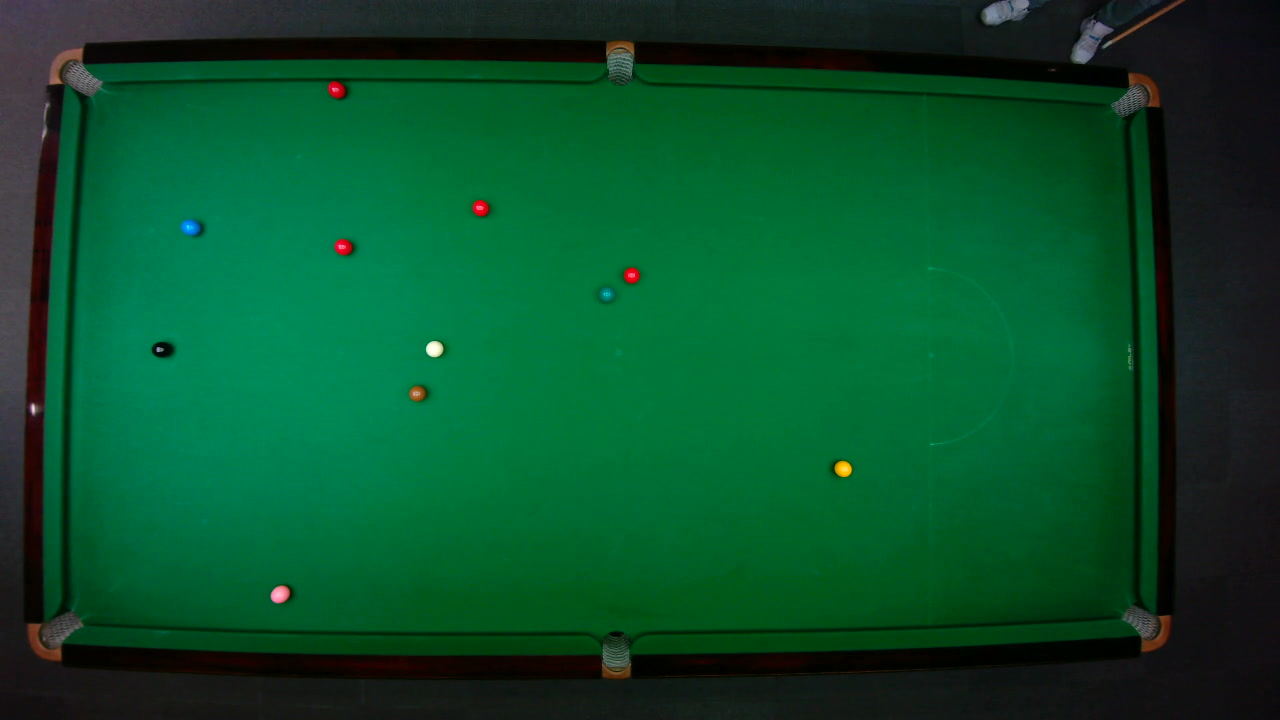bag: (25, 609, 84, 661), (46, 47, 102, 97), (1119, 603, 1171, 651), (1108, 72, 1160, 118), (601, 629, 630, 680), (605, 38, 633, 86)
black: (150, 340, 172, 358)
blue: (179, 218, 201, 236)
brown: (406, 383, 427, 402)
cue: (1101, 2, 1184, 52)
green: (597, 285, 615, 302)
pink: (269, 583, 291, 604)
red: (326, 79, 346, 99), (332, 237, 353, 255), (470, 198, 489, 216), (622, 266, 640, 284)
white: (424, 338, 444, 357)
yellow: (832, 459, 852, 477)
zone: (927, 265, 1013, 445)
